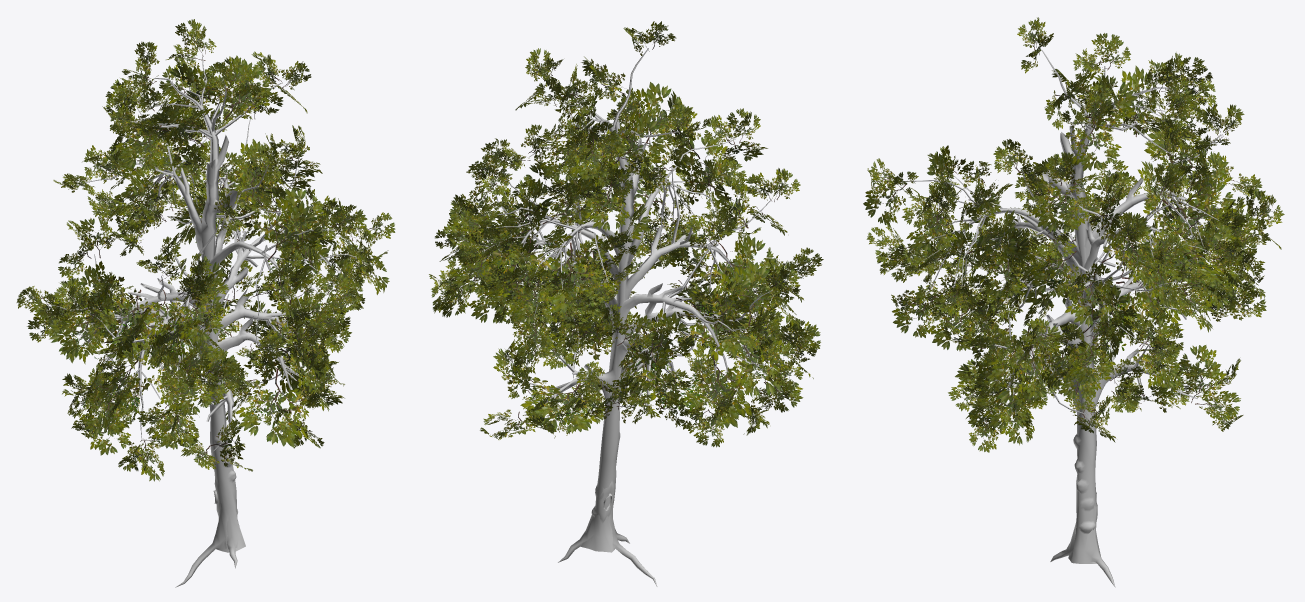
The model's file is Tree_big2.fbx.
3 views of the same model, side by side, from view 1: azimuth 30°, elevation 25°; view 2: azimuth 150°, elevation 25°; view 3: azimuth 270°, elevation 25° (orthographic). The views are drawn at different scales.
Visible parts, largest first — view 1: LOD0; view 2: LOD0; view 3: LOD0.
Boxes of the visible parts, x1,y1,x2,y2 form: LOD0: (16,19,395,587); LOD0: (429,21,823,586); LOD0: (863,17,1284,587).
Size of what is drawn, in the model's own units: 15.99 by 23.84 by 16.78.
